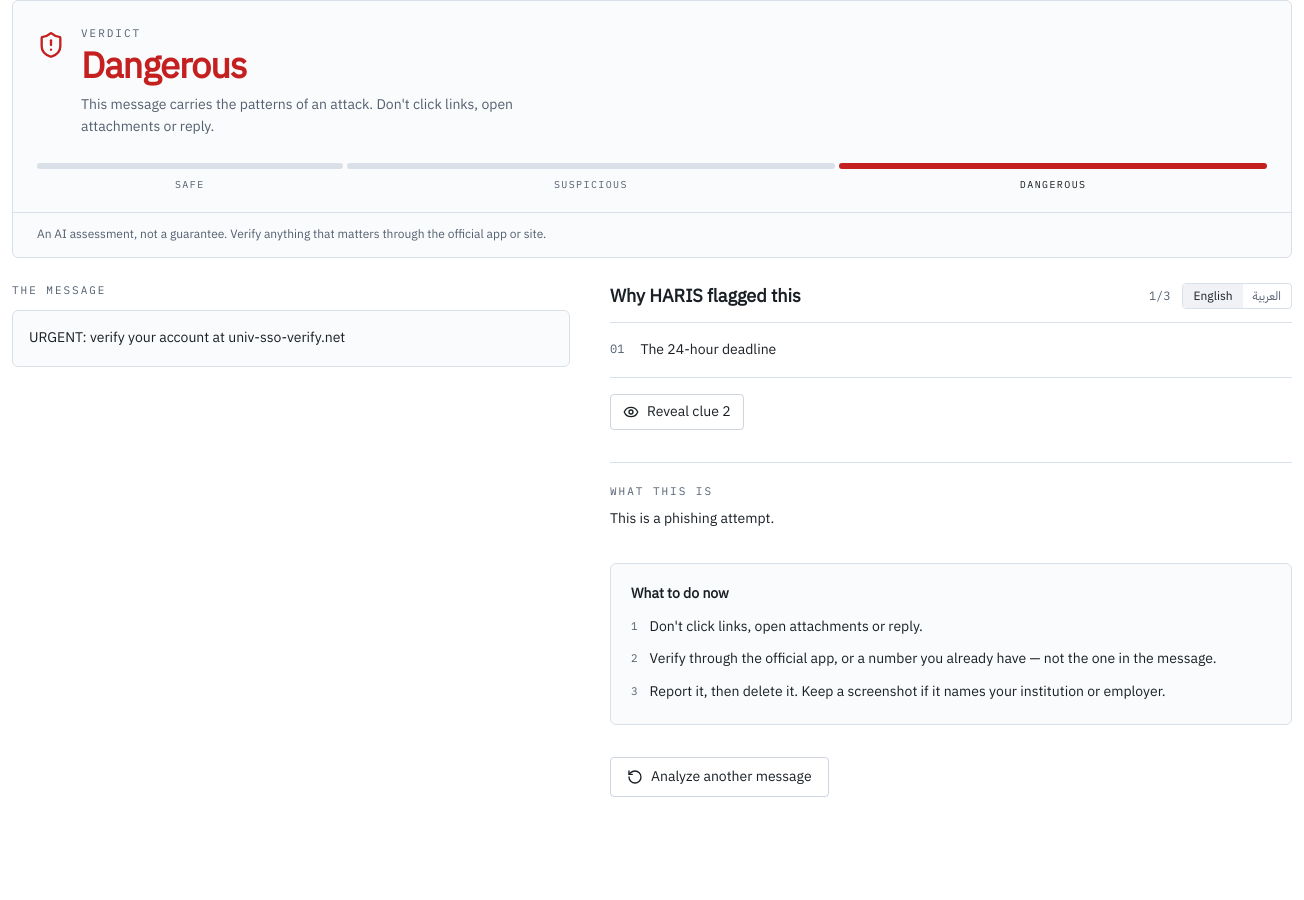
AnalysisResults › switches the reading language without translating the message
Click the button "العربية": [1267, 296] box [1243,284,1291,308]
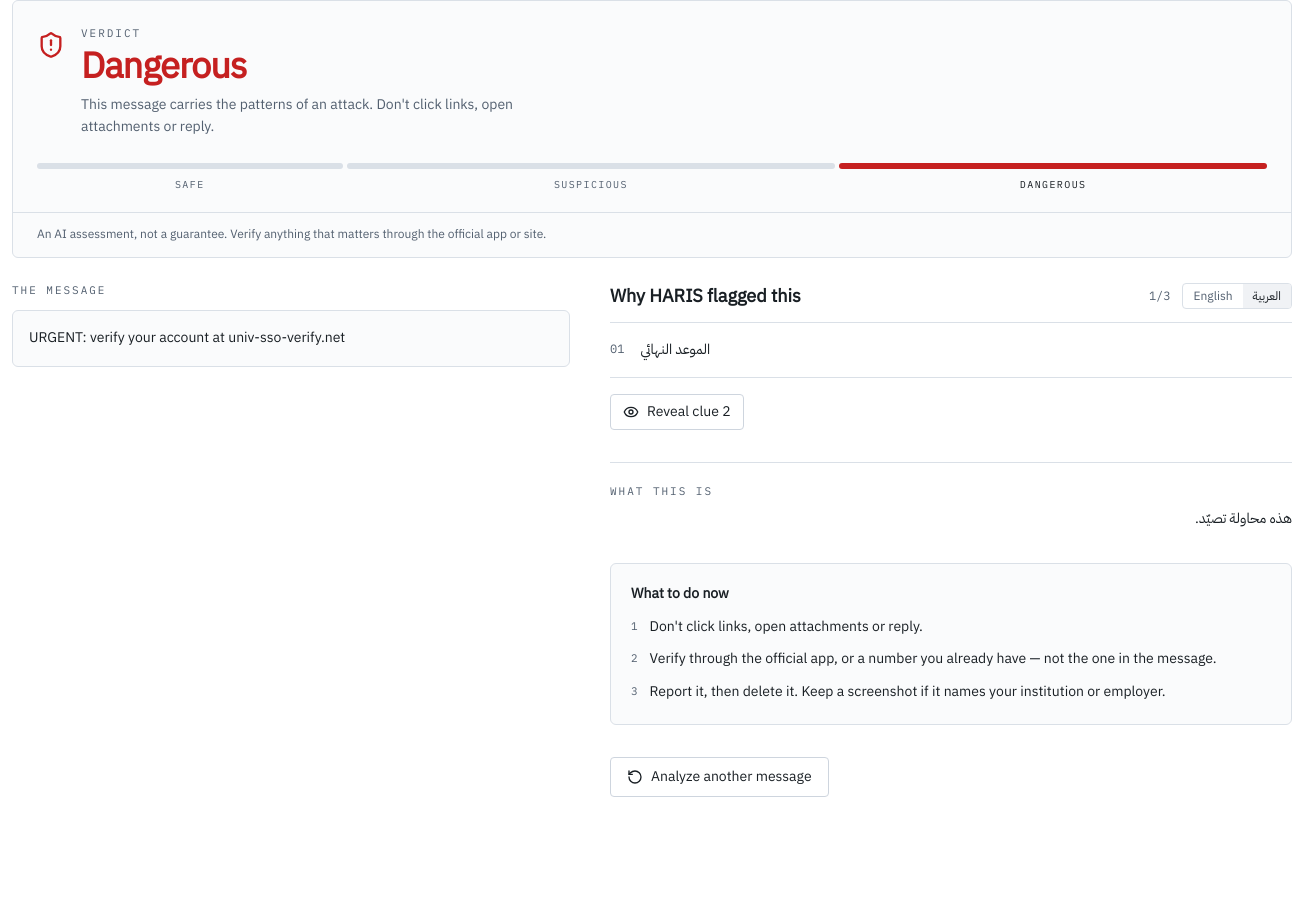
expect the text "URGENT: verify your account at univ-sso-verify.net" is shown: met, box [12,310,570,367]
expect the text "هذه محاولة تصيّد." is shown: met, box [1195,508,1292,529]
expect the text "الموعد النهائي" is shown: met, box [640,338,710,361]
